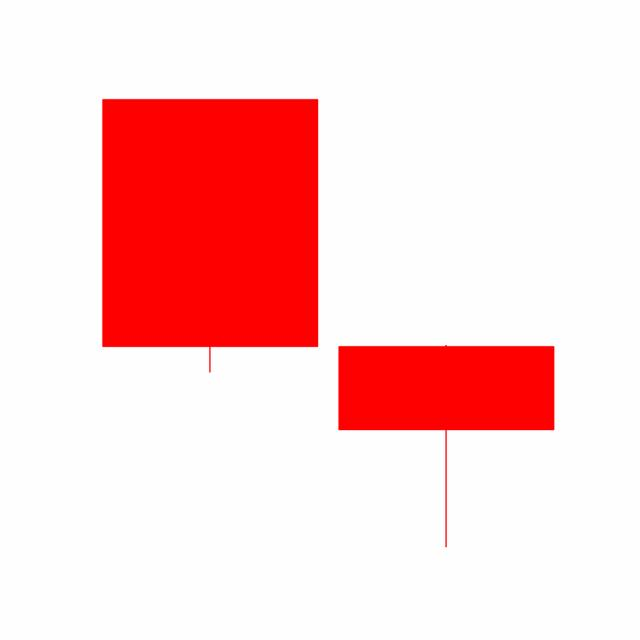Hammer: (327, 342, 565, 550)
